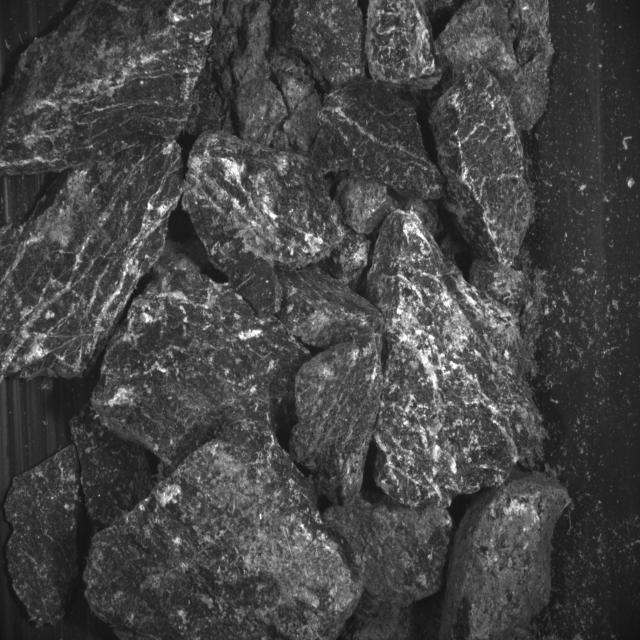Stones: (86, 434, 362, 640), (369, 211, 545, 507), (1, 142, 184, 381), (92, 275, 310, 468), (1, 1, 214, 175), (184, 132, 345, 314), (441, 472, 571, 640), (431, 64, 535, 265), (291, 333, 384, 506), (436, 1, 555, 131), (320, 82, 444, 200), (325, 496, 452, 607), (5, 446, 80, 626), (71, 406, 152, 526), (277, 267, 384, 349), (275, 1, 366, 90), (366, 1, 442, 91), (236, 79, 289, 147), (325, 403, 327, 406), (494, 45, 495, 47)
